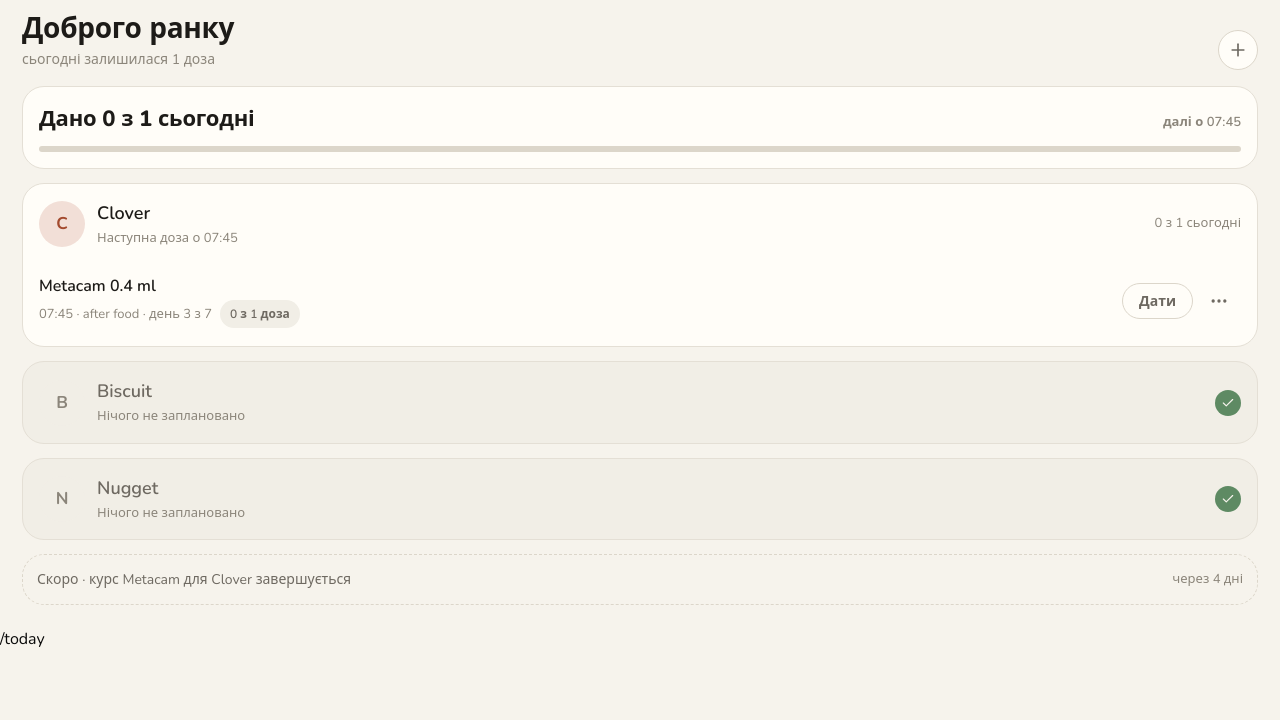
Scenario: TodayPage › localises the actor token inside the Ukrainian early-give dialog when the colliding dose was logged by THIS device
This screenshot has width=1280, height=720.
Click the button "Дати": {"x": 1158, "y": 301} [1122, 283, 1193, 319]
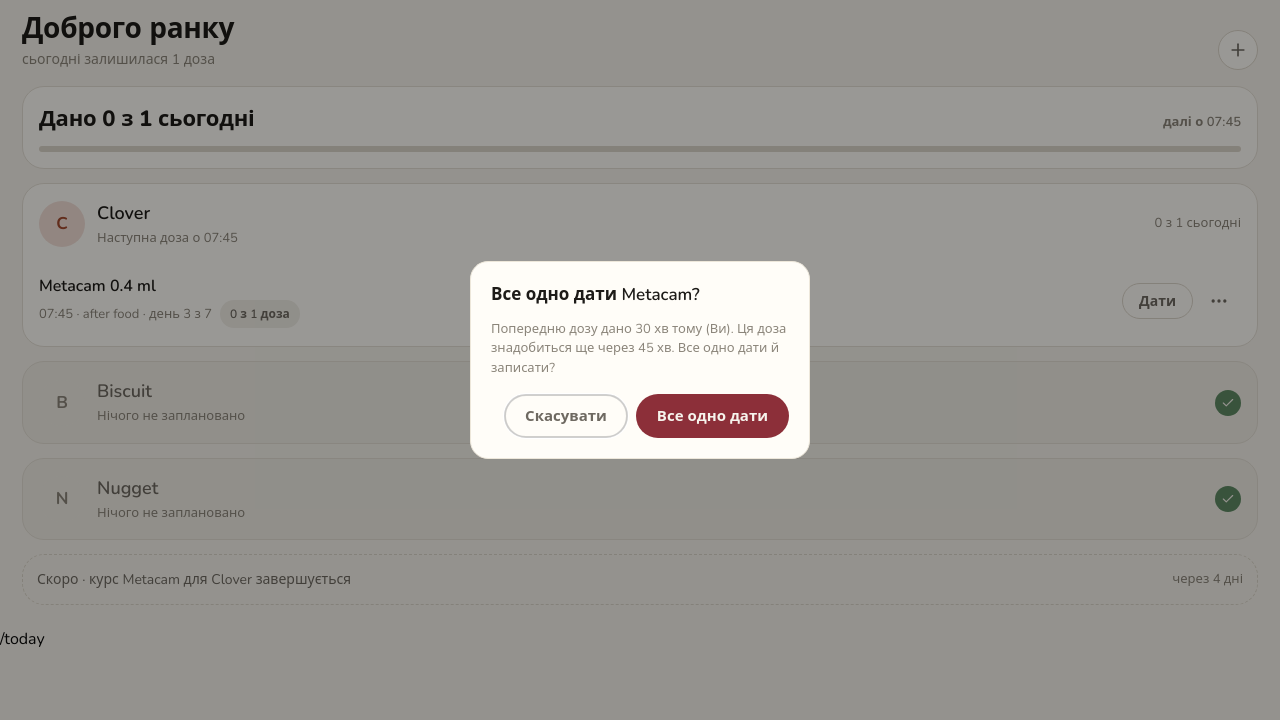
Expected: the text "Попередню дозу дано 30 хв тому (Ви). Ця доза знадобиться ще через 45 хв. Все одно дати й записати?" does not show "Roman", [491, 320, 789, 378]
Now the heading "Все одно дати Metacam?" is shown, box [491, 283, 700, 306]
Now the text "Попередню дозу дано 30 хв тому (Ви). Ця доза знадобиться ще через 45 хв. Все одно дати й записати?" is shown, box [491, 320, 786, 376]
